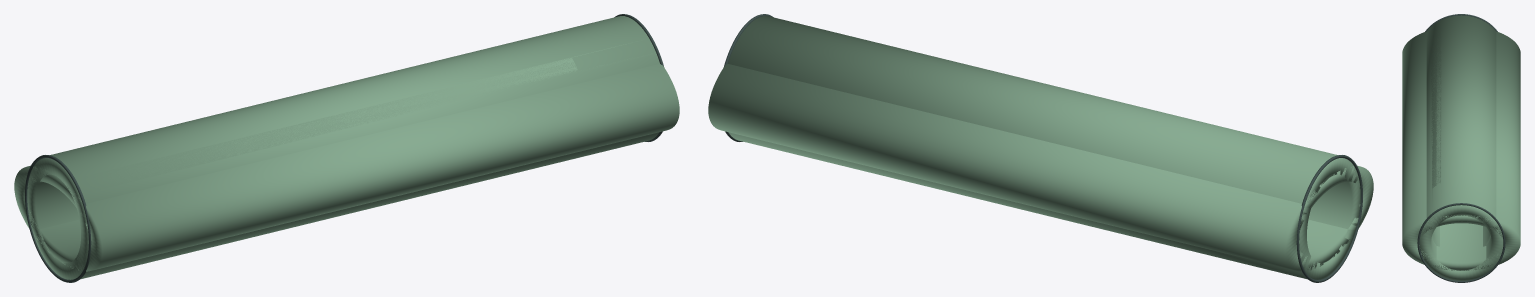
The model's file is straw.glb.
The picture shows the model from 3 angles, left to right: view 1: azimuth 30°, elevation 25°; view 2: azimuth 150°, elevation 25°; view 3: azimuth 270°, elevation 25°; orthographic projection. The views are drawn at different scales.
Parts seen in each view (by area): view 1: Straw tube.002, Straw tube.004, Straw tube, Reference rim; view 2: Straw tube.002, Straw tube.004, Reference rim; view 3: Straw tube.004, Straw tube.002, Straw tube, Reference rim.001, Straw tube.005, Reference rim, Straw tube.003.
Boxes of the visible parts, bbox=[...] form: Straw tube.002: bbox=[14, 64, 679, 271]; Straw tube.004: bbox=[27, 16, 659, 279]; Straw tube: bbox=[76, 38, 656, 193]; Reference rim: bbox=[25, 155, 91, 282]; Straw tube.002: bbox=[708, 64, 1373, 271]; Straw tube.004: bbox=[728, 16, 1360, 279]; Reference rim: bbox=[1296, 155, 1362, 282]; Straw tube.004: bbox=[1419, 15, 1503, 280]; Straw tube.002: bbox=[1402, 32, 1520, 270]; Straw tube: bbox=[1431, 21, 1446, 224]; Reference rim.001: bbox=[1417, 203, 1505, 282]; Straw tube.005: bbox=[1432, 226, 1490, 246]; Reference rim: bbox=[1425, 14, 1497, 31]; Straw tube.003: bbox=[1461, 223, 1466, 270].
Bounding box in the file's own units: 5.02 × 0.984 × 1.32.
